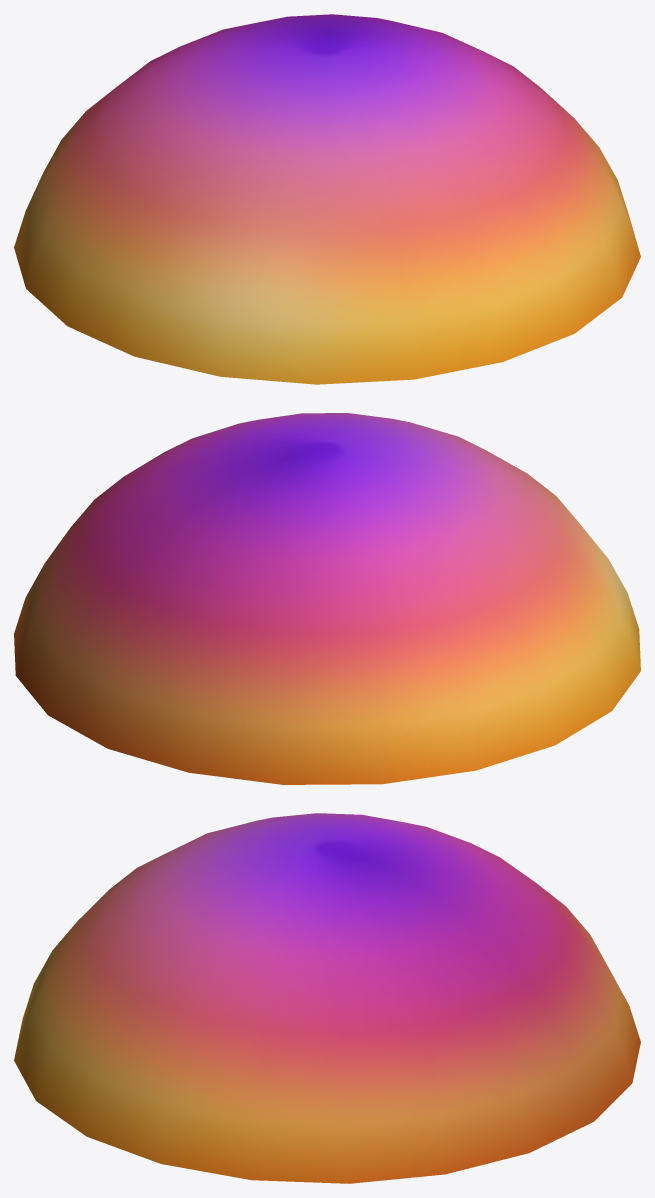
Rendered from Sky Sunset - 01.fbx.
3 renders of one model, top to bottom at view 1: azimuth 30°, elevation 25°; view 2: azimuth 150°, elevation 25°; view 3: azimuth 270°, elevation 25°, orthographic.
Parts seen in each view (by area): view 1: sky; view 2: sky; view 3: sky.
Part boxes in pixels (box(x1,y1,x2,y2)): sky: box(14, 14, 640, 384); sky: box(14, 413, 640, 784); sky: box(14, 813, 640, 1183).
Size of the model in its own units: 985 by 356 by 985.
